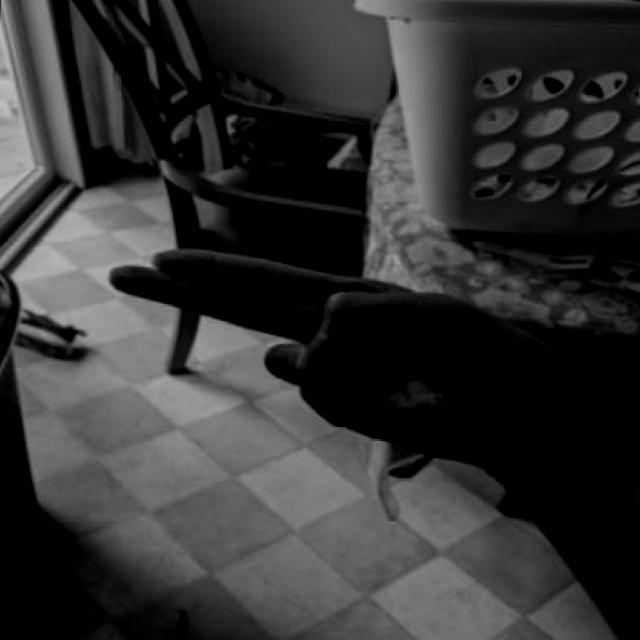H: (100, 208, 632, 520)
